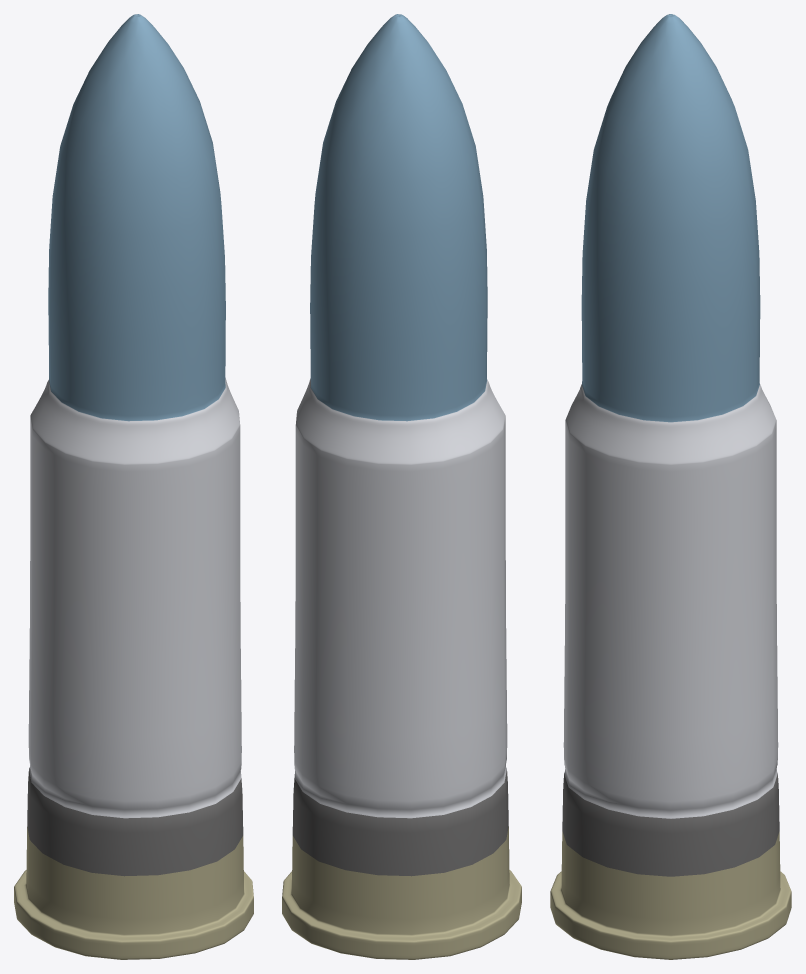
The model's file is tank_shell.fbx.
3 views of the same model, side by side, from view 1: azimuth 30°, elevation 25°; view 2: azimuth 150°, elevation 25°; view 3: azimuth 270°, elevation 25° (orthographic).
Visible parts, largest first — view 1: pCylinder2; view 2: pCylinder2; view 3: pCylinder2.
Boxes of the visible parts, <box> form: pCylinder2: <box>14,14,253,959</box>; pCylinder2: <box>282,14,521,959</box>; pCylinder2: <box>550,14,791,959</box>.
Bounding box in the file's own units: 4.97 × 20.33 × 4.97.
